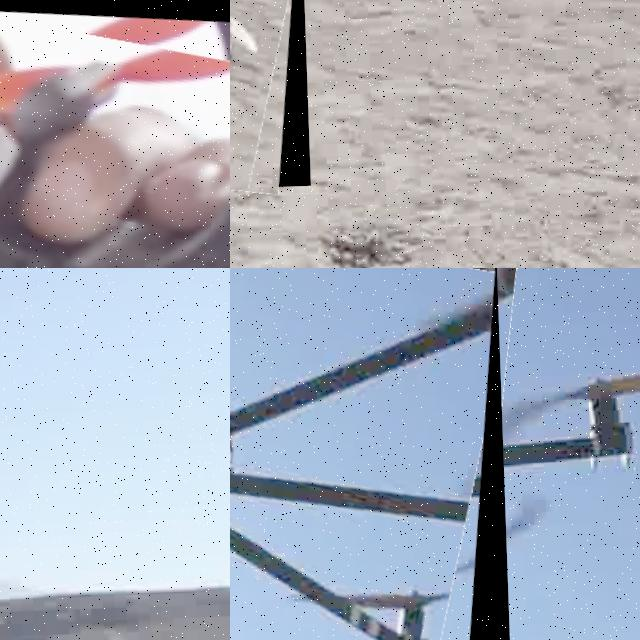0: (230, 268, 517, 640), (230, 0, 310, 193)
drone: (0, 0, 230, 268)
